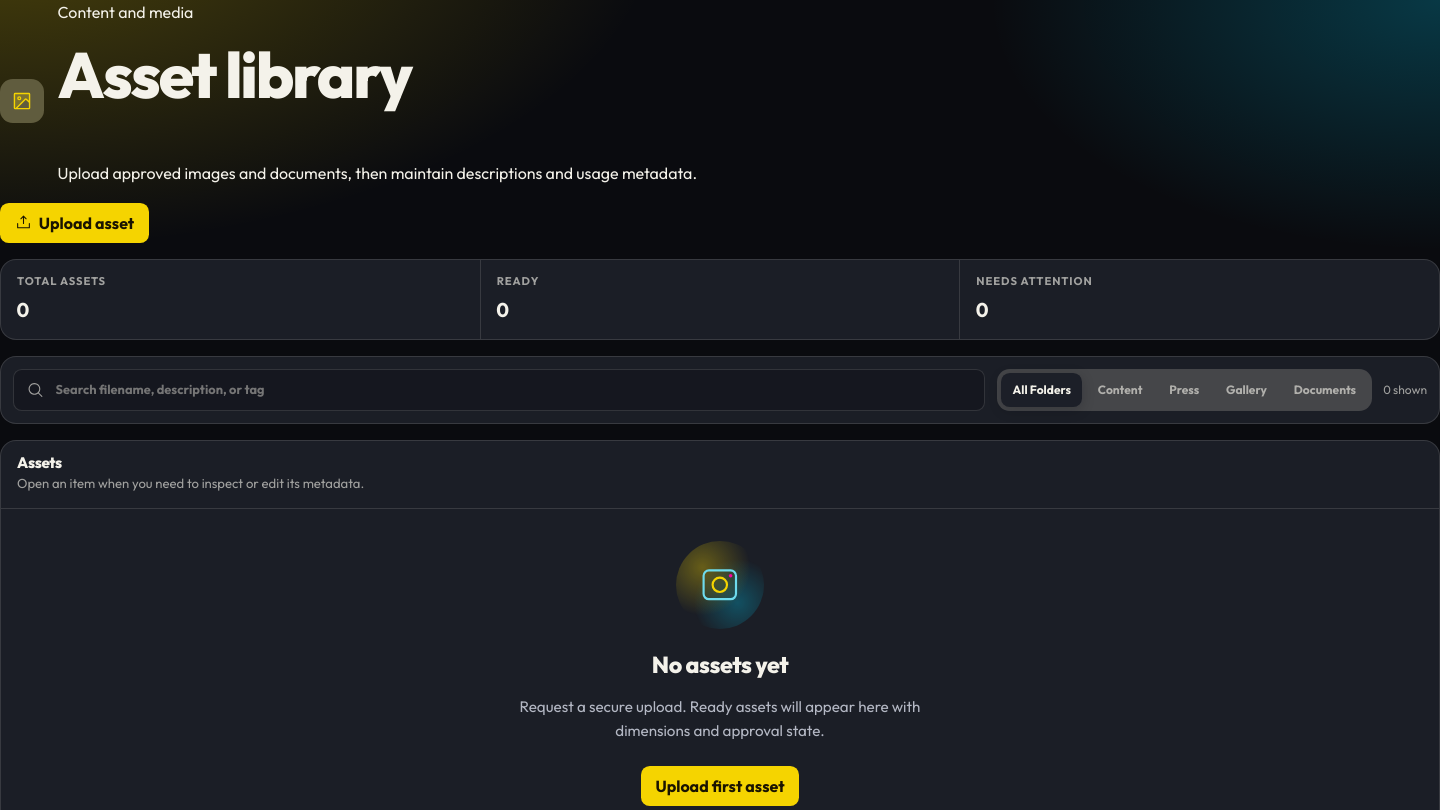
Test: MediaLibrary › validates uploads before invoking a provider
Expected: the field labelled "Alternative text" is not shown
Click the button "Upload asset" at (74, 223), box [0, 203, 149, 243]
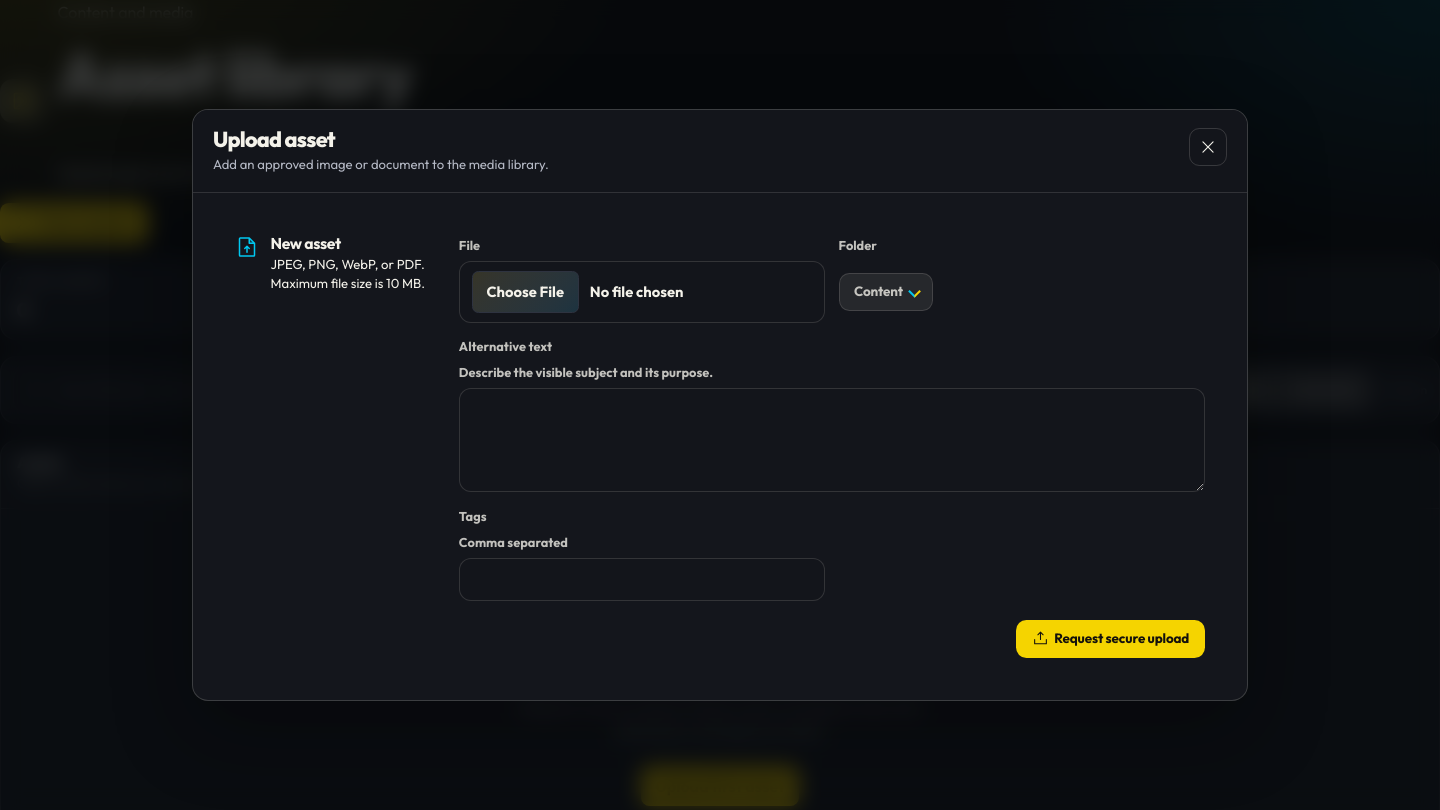
Type "short" into the text box labelled "Alternative text" at (832, 440), box [459, 388, 1205, 492]
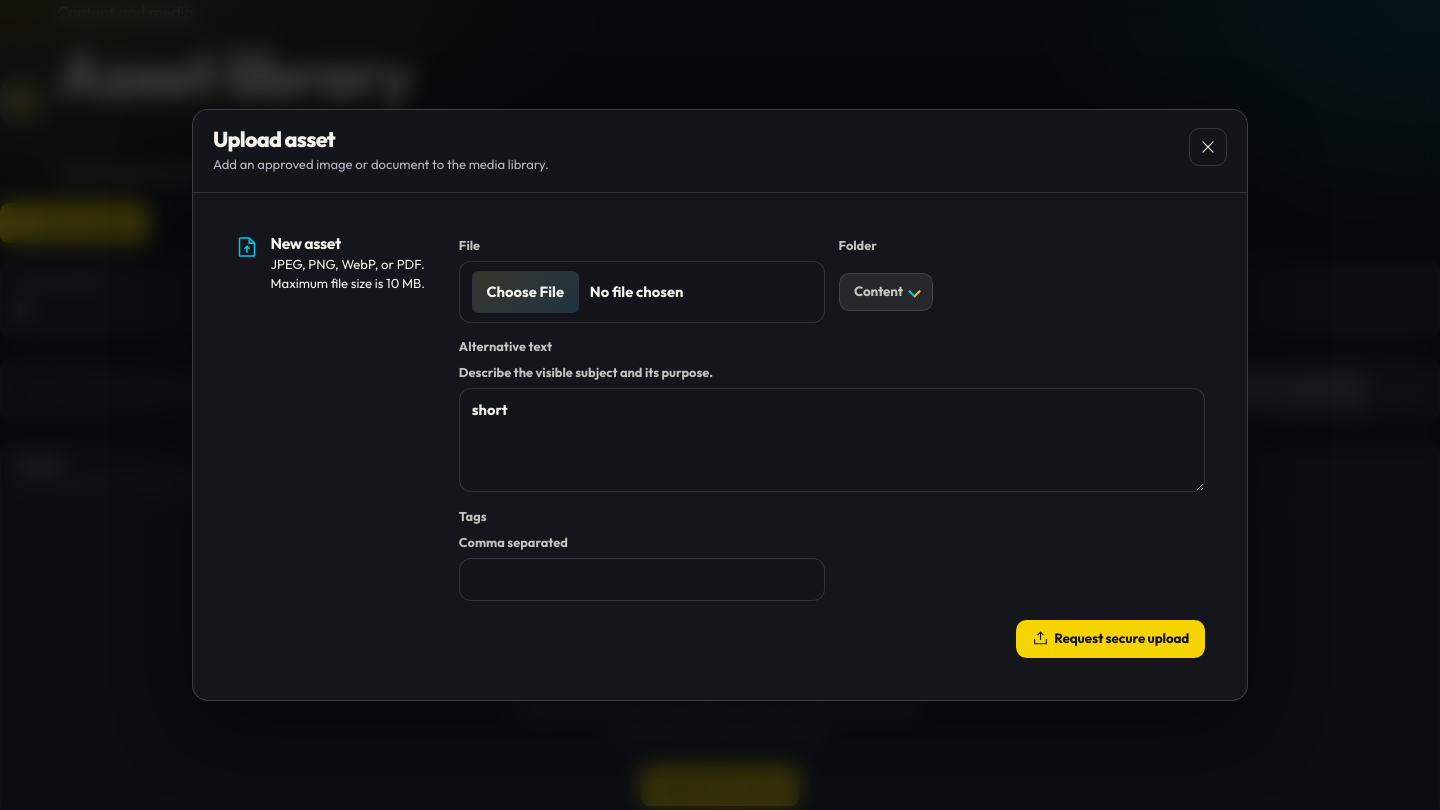
Submit the form named "Request secure upload", box [217, 217, 1223, 676]
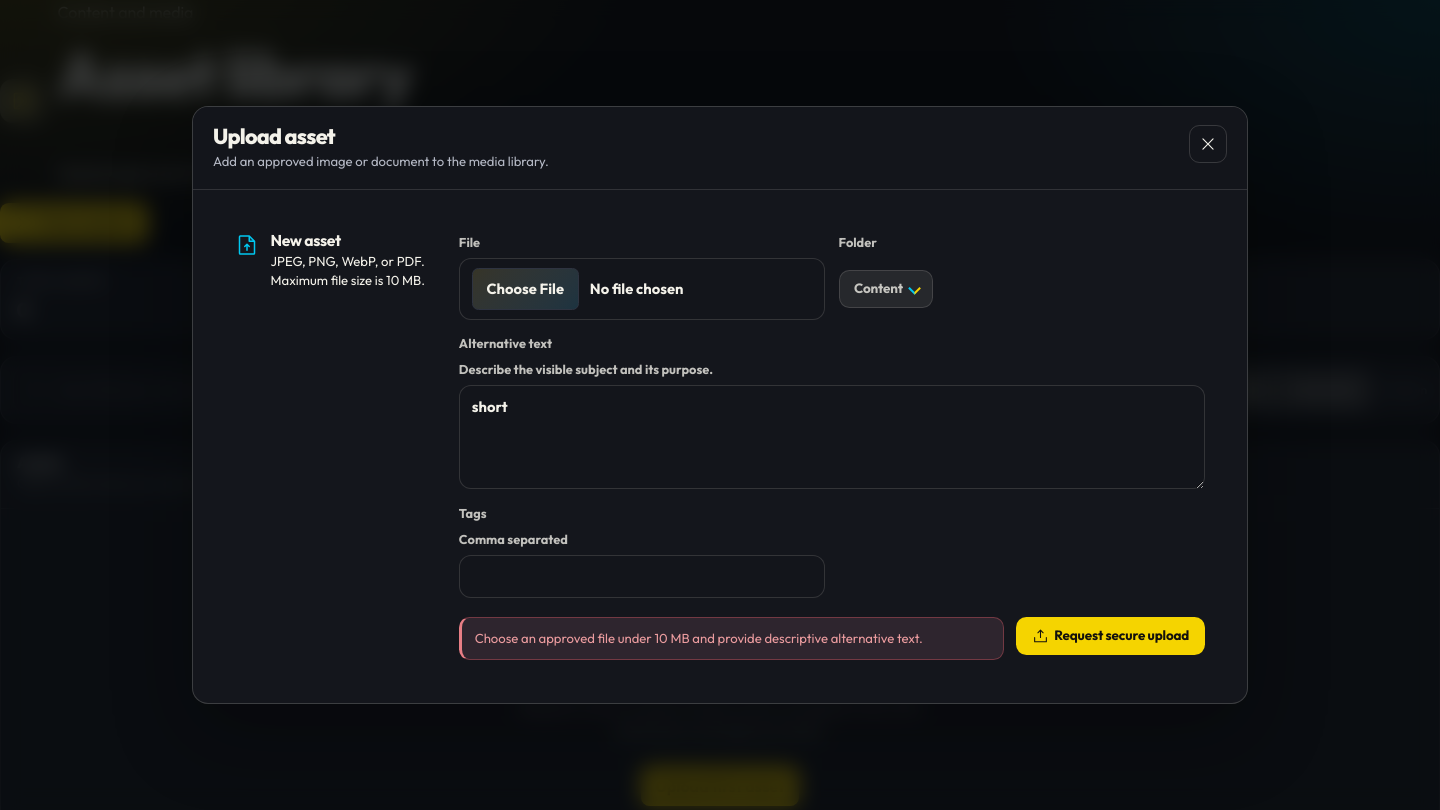
Expected: the message shows "approved file", [475, 630, 923, 646]
